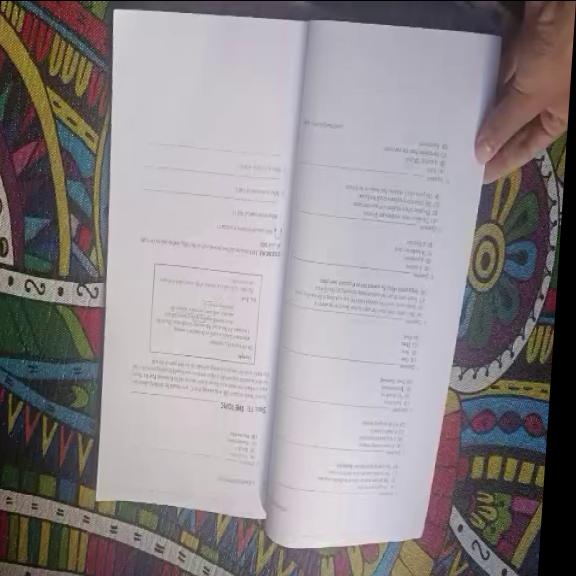Kertas: (211, 35, 457, 508), (97, 22, 324, 498)
